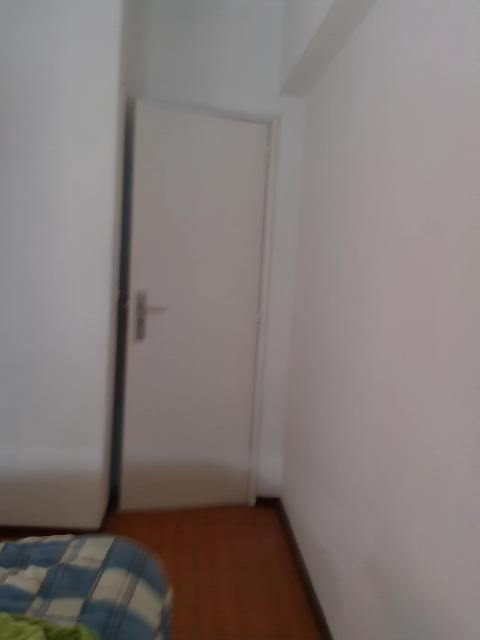door: (120, 97, 266, 514)
